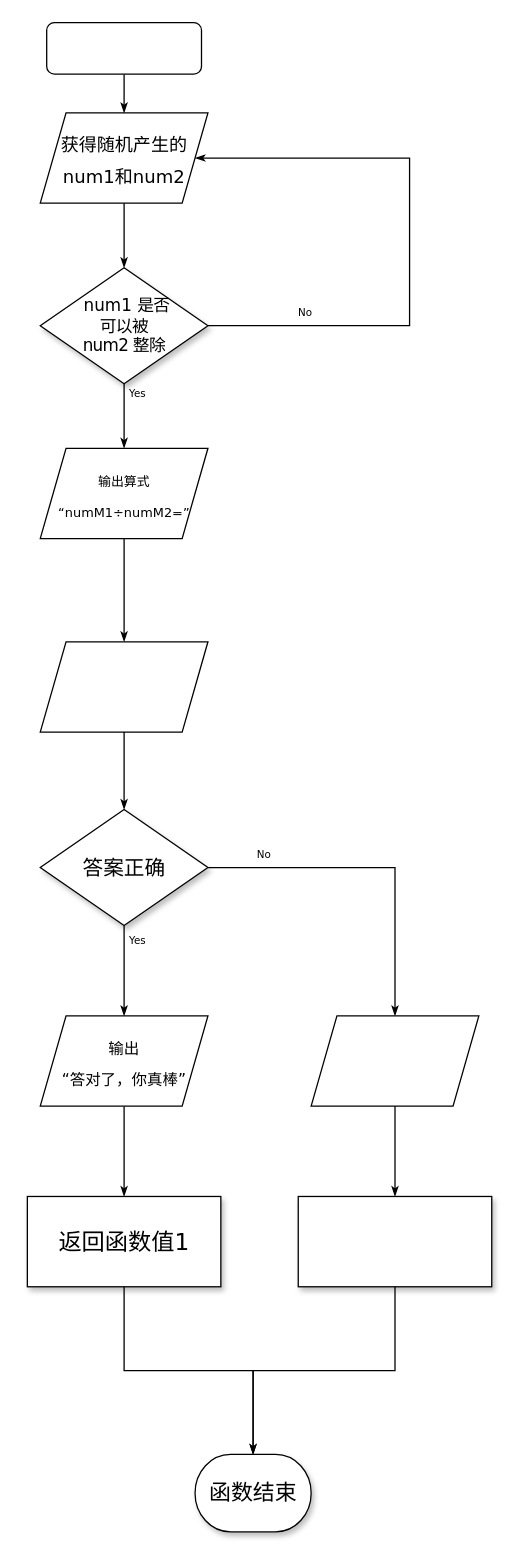
Some shapes in this 522 by 1563 pixel diagram are drawn without their labels. The shapes that lost their labels are listed below. From the top down, each one's centre as x and y in pixels, then its label:
(x=123, y=47): 开始
(x=123, y=686): 获得用户输入的答案
(x=394, y=1060): 输出 “对不起， 你答错了哦”
(x=395, y=1243): 返回函数值0
